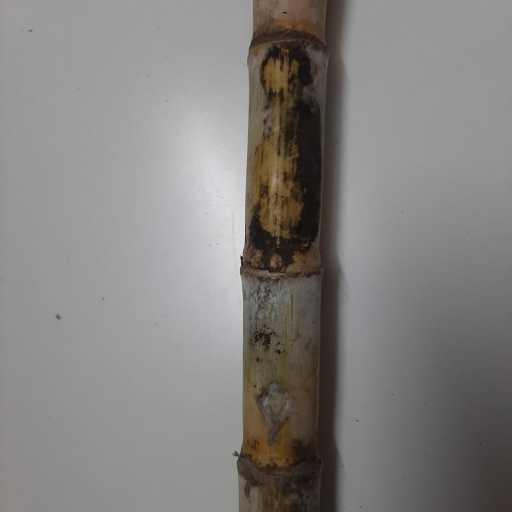Bud: (267, 253, 284, 273)
